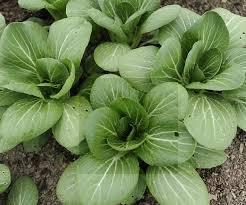Healthy-Pechay: (12, 4, 241, 192)
